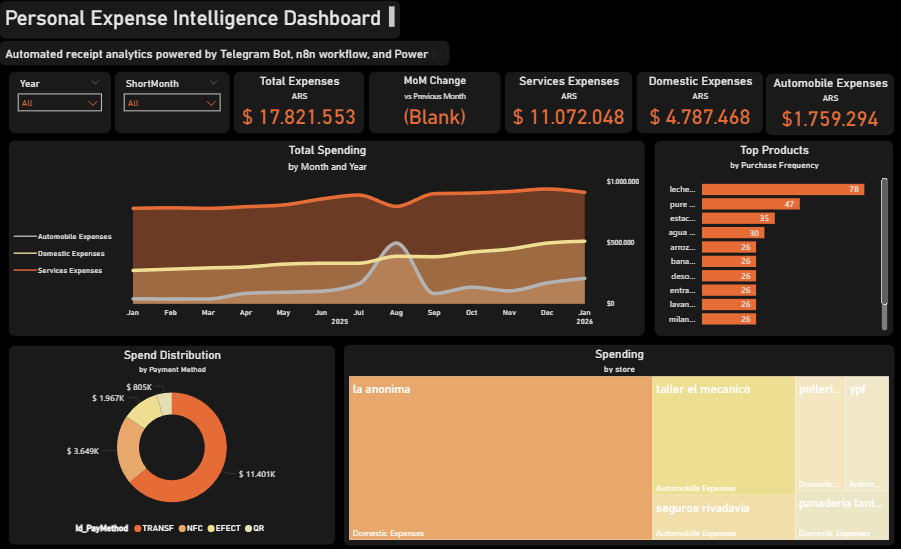

The dashboard page shown, as its layout file describes it:
{"tool":"powerbi","page":{"name":"Dashboard","canvas":[1280,695],"ordinal":0},"visuals":[{"type":"lineChart","title":"Total Spending","fields":{"Y":["DAX.Automobile Expenses","DAX.Domestic Expenses","DAX.Services Expenses"],"Category":["Dim_Date.Date.Variación.Jerarquía de fechas.Año","Dim_Date.Date.Variación.Jerarquía de fechas.Mes"]},"box":[13.6,109.3,904.3,279.4],"z":0},{"type":"treemap","title":"Spending","fields":{"Values":["DAX.Domestic Expenses","DAX.Automobile Expenses"],"Group":["Dim_Store.Store"]},"box":[487.3,398.9,781.9,286.6],"z":1000},{"type":"card","title":"Total Expenses","fields":{"Values":["DAX.Total Gasto"]},"box":[444,11.1,180.1,88.5],"z":2000},{"type":"card","title":"Services Expenses","fields":{"Values":["DAX.Total Services Expenses"]},"box":[658.9,11.1,180.1,88.5],"z":3000},{"type":"card","title":"Domestic Expenses","fields":{"Values":["DAX.Total Home Expenses"]},"box":[873.7,11.1,180.1,88.5],"z":4000},{"type":"card","title":"Automobile Expenses","fields":{"Values":["DAX.Automobile Expenses"]},"box":[1088.6,11.1,180.1,88.5],"z":5000},{"type":"donutChart","title":"Total by Payment Method","fields":{"Category":["Dim_PayMethod.Id_PayMethod"],"Y":["DAX.Total"]},"box":[13.6,398.9,465.1,283.7],"z":6000},{"type":"clusteredBarChart","title":"Total Per Product","fields":{"Category":["Dim_Product.Product"],"Y":["DAX.Total Units"]},"box":[929.2,109.2,340.2,279.6],"z":7000},{"type":"slicer","fields":{"Values":["Dim_Date.Year"]},"box":[14.2,11.1,180.1,88.5],"z":8000},{"type":"slicer","title":"Filter","fields":{"Values":["Dim_Date.Month"]},"box":[229.1,11.1,180.1,88.5],"z":9000}]}

Visuals, with their boxes on the page's 1280x695 design canvas (x1, y1, x2, y2). These are canvas units, not pixel positions in the 901x549 screenshot, which may show the page scaled, cropped or inside an application window:
"Total Spending" lineChart: l=14, t=109, r=918, b=389
"Spending" treemap: l=487, t=399, r=1269, b=686
"Total Expenses" card: l=444, t=11, r=624, b=100
"Services Expenses" card: l=659, t=11, r=839, b=100
"Domestic Expenses" card: l=874, t=11, r=1054, b=100
"Automobile Expenses" card: l=1089, t=11, r=1269, b=100
"Total by Payment Method" donutChart: l=14, t=399, r=479, b=683
"Total Per Product" clusteredBarChart: l=929, t=109, r=1269, b=389
slicer - Dim_Date.Year: l=14, t=11, r=194, b=100
"Filter" slicer: l=229, t=11, r=409, b=100
